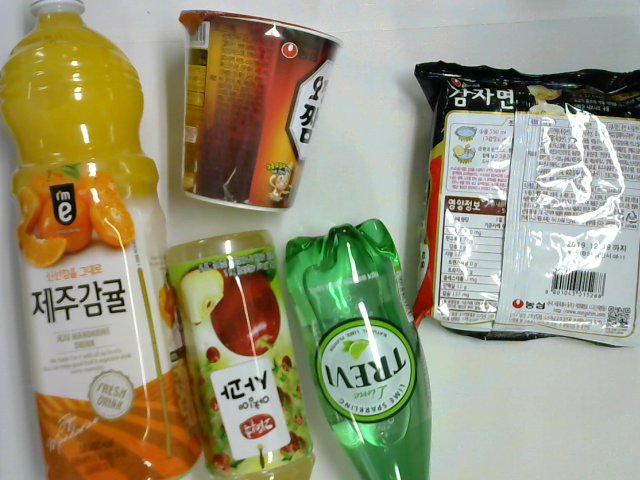Jeju_Tangerine_1.5L: (1, 1, 205, 480)
Morning_Apple_500ml: (159, 228, 315, 480)
Ojjam: (170, 4, 345, 218)
Potato: (408, 56, 640, 353)
Treviraim_500ml: (287, 218, 433, 480)
